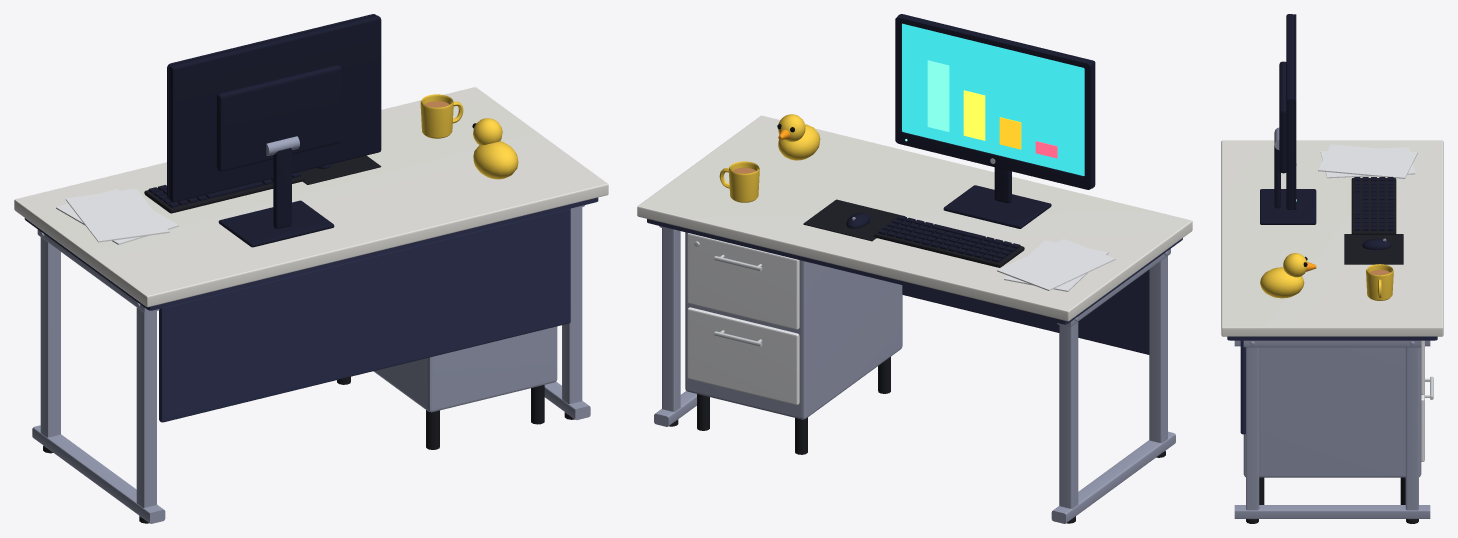
File: desk.glb
3 views of the same model, side by side, from view 1: azimuth 30°, elevation 25°; view 2: azimuth 150°, elevation 25°; view 3: azimuth 270°, elevation 25° (orthographic). The views are drawn at different scales.
Parts seen in each view (by area): view 1: Body; view 2: Body; view 3: Body.
Boxes of the visible parts, x1,y1,x2,y2 form: Body: [14, 14, 608, 523]; Body: [637, 14, 1192, 523]; Body: [1221, 14, 1443, 523].
Bounding box in the file's own units: 1.5 × 1.32 × 0.75.
